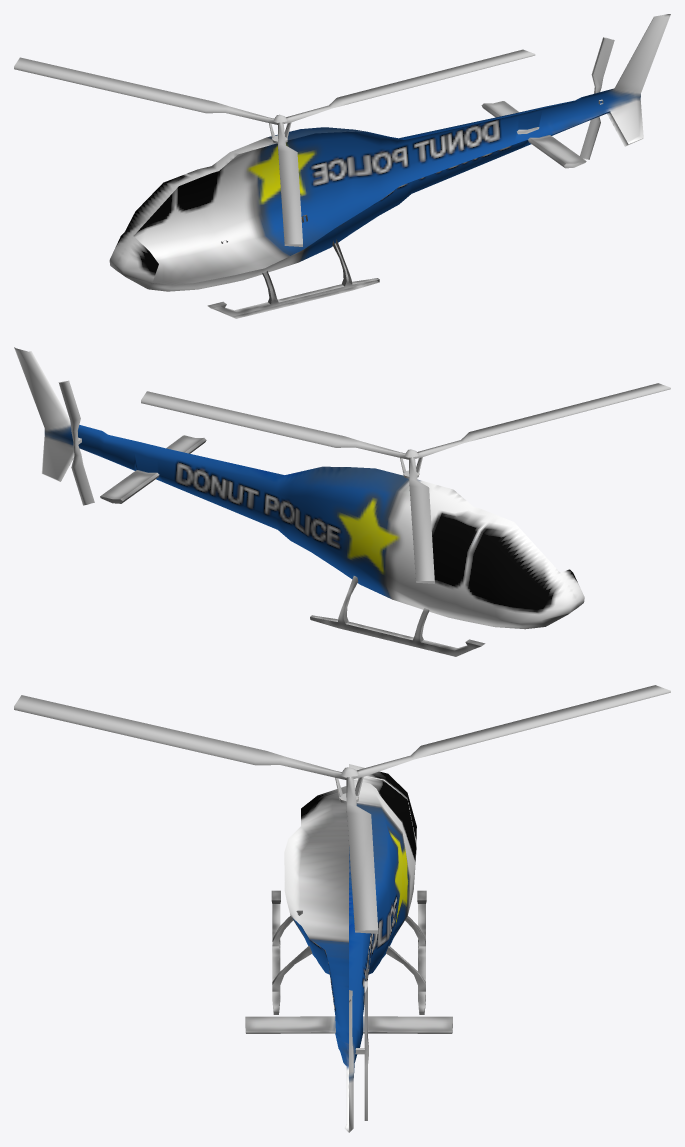
The model's file is Chopper.FBX.
3 renders of one model, top to bottom at view 1: azimuth 30°, elevation 25°; view 2: azimuth 150°, elevation 25°; view 3: azimuth 270°, elevation 25°, orthographic. The views are drawn at different scales.
Parts seen in each view (by area): view 1: Chopper_body, Chopper_propeller_front, Chopper_skids, Chopper_propeller_back; view 2: Chopper_body, Chopper_propeller_front, Chopper_skids, Chopper_propeller_back; view 3: Chopper_body, Chopper_propeller_front, Chopper_skids.
Part boxes in pixels (left/top/right/bottom): Chopper_body: left=109, top=14, right=670, bottom=291; Chopper_propeller_front: left=14, top=49, right=535, bottom=246; Chopper_skids: left=207, top=214, right=379, bottom=318; Chopper_propeller_back: left=580, top=37, right=614, bottom=159; Chopper_body: left=14, top=347, right=584, bottom=629; Chopper_propeller_front: left=141, top=383, right=670, bottom=583; Chopper_skids: left=310, top=576, right=485, bottom=656; Chopper_propeller_back: left=58, top=380, right=94, bottom=505; Chopper_body: left=245, top=764, right=452, bottom=1132; Chopper_propeller_front: left=14, top=685, right=670, bottom=933; Chopper_skids: left=271, top=890, right=426, bottom=1014.
Size of the model in its own units: 49.29 by 14.37 by 40.12.
